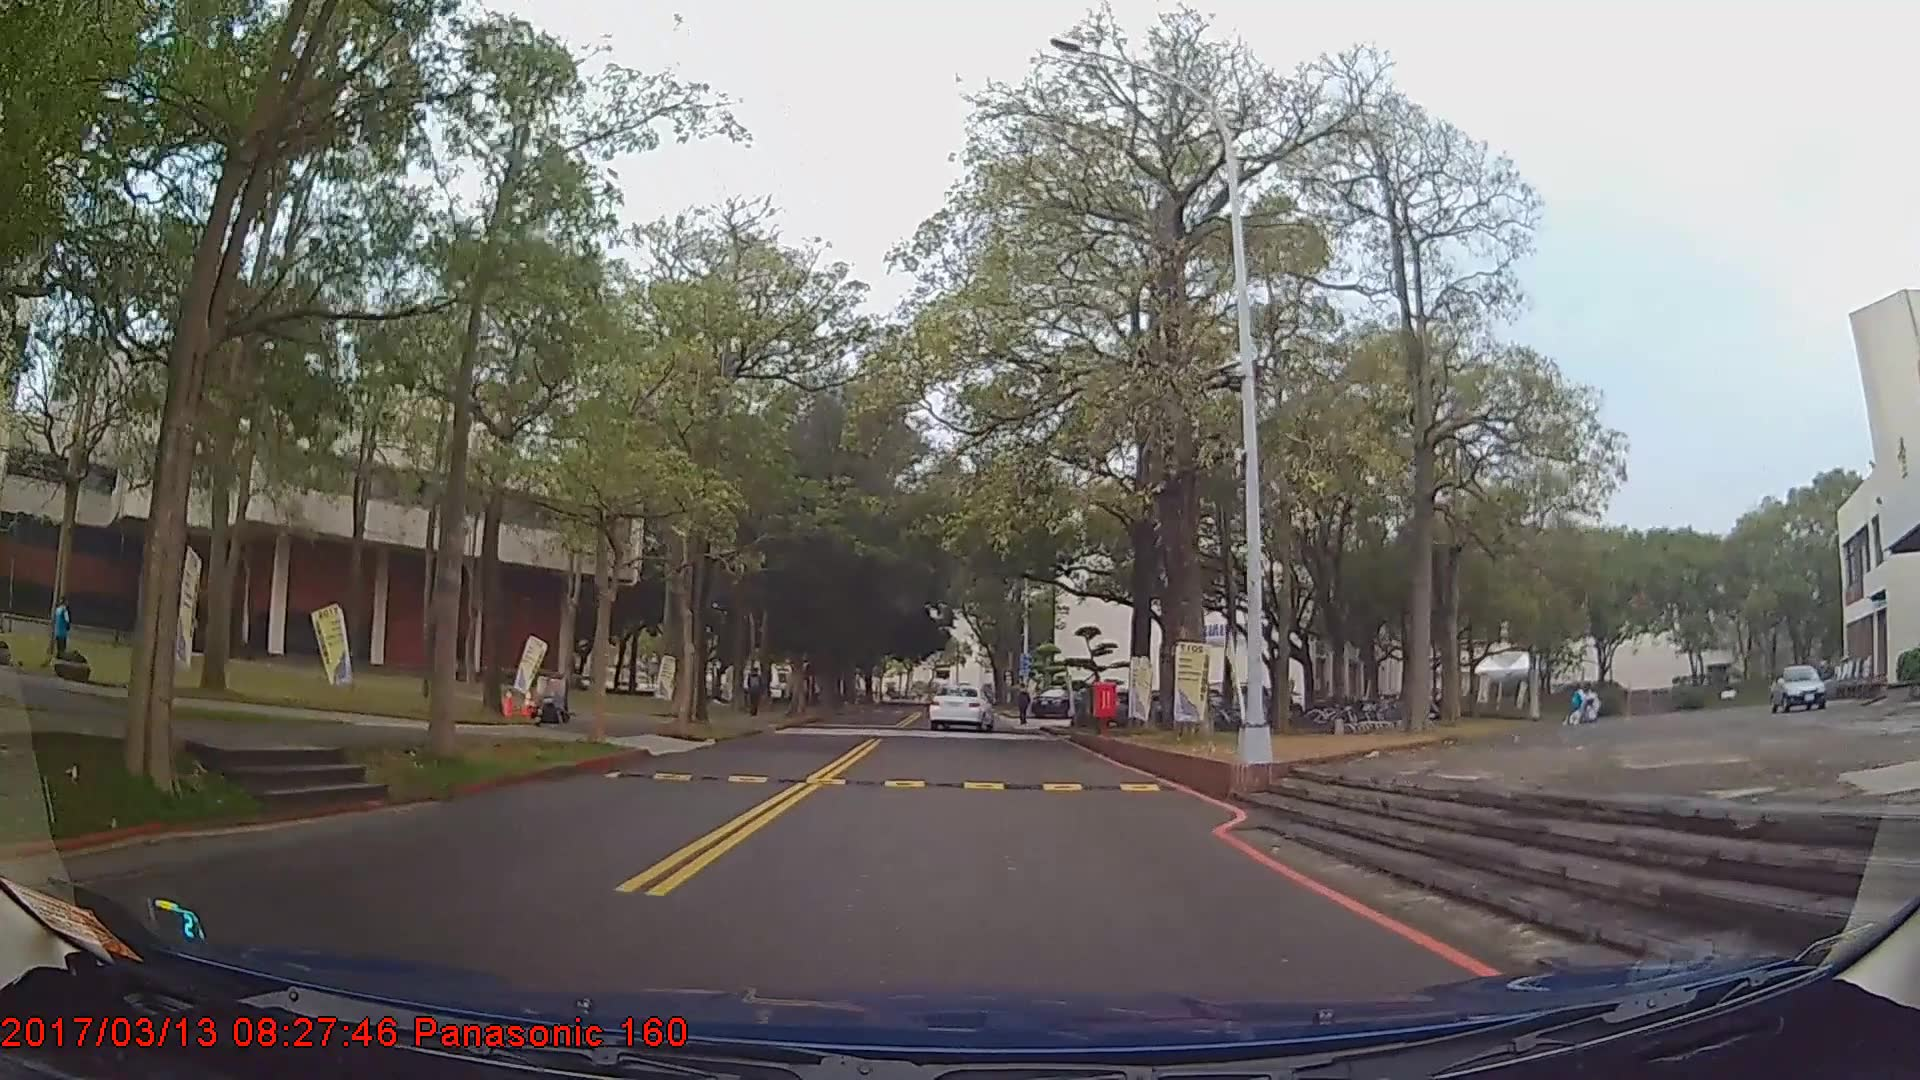pedestrian: (50, 598, 75, 676), (744, 666, 766, 718)
vehicle: (1766, 660, 1839, 713), (929, 682, 994, 731)
